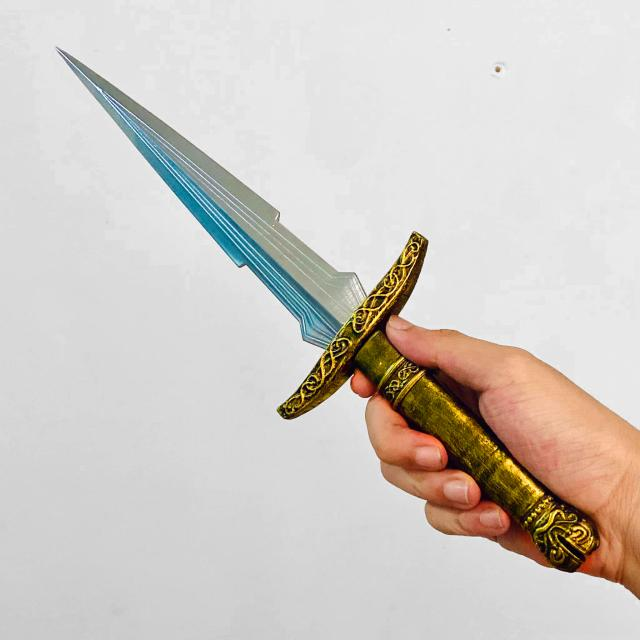Gun: (35, 31, 606, 582)
